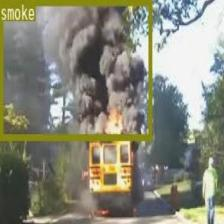smoke: (0, 0, 152, 138)
